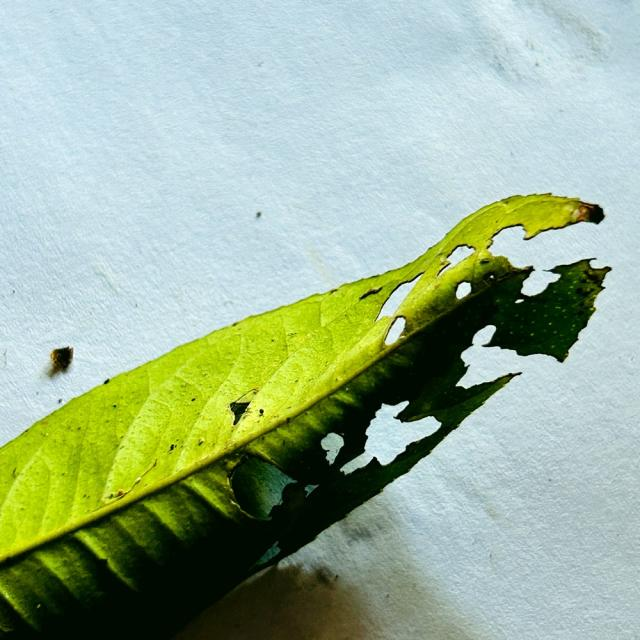Deficiency Leaf: (340, 405, 440, 474), (226, 456, 303, 523), (375, 282, 411, 321), (227, 387, 260, 425), (484, 222, 528, 248), (443, 244, 475, 274), (522, 268, 555, 294), (384, 316, 407, 345), (321, 434, 342, 463), (472, 324, 497, 346), (358, 285, 382, 300), (455, 281, 473, 300), (514, 298, 525, 304)
Lemon: (0, 194, 609, 639)
